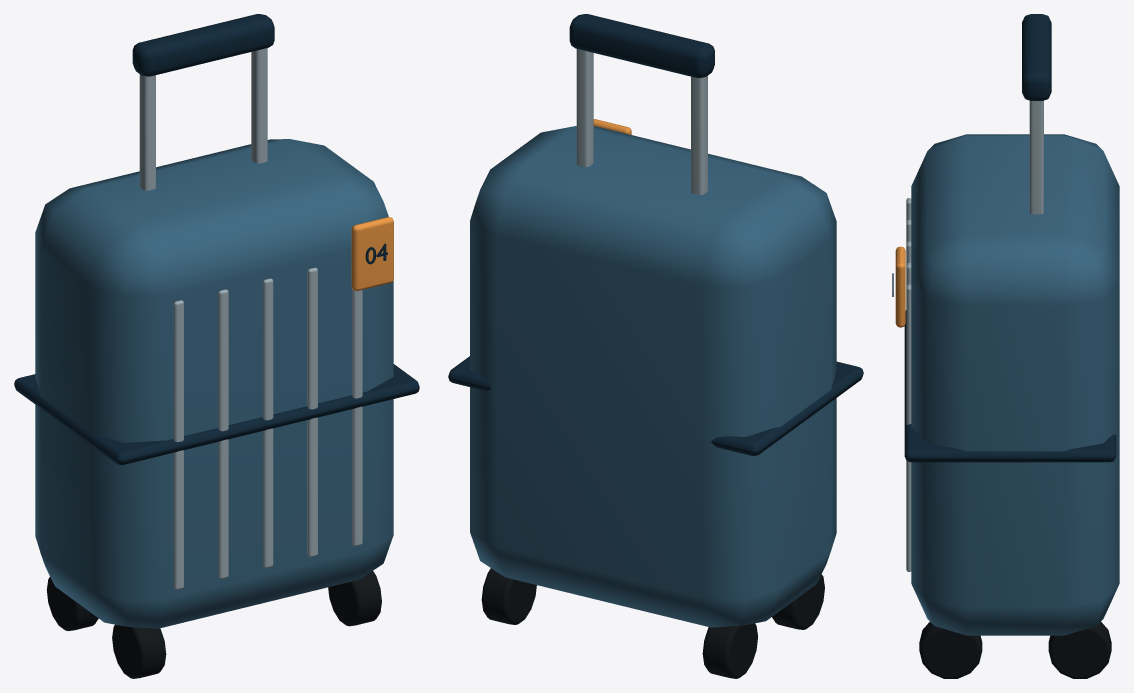
The model's file is suitcase.glb.
3 views of the same model, side by side, from view 1: azimuth 30°, elevation 25°; view 2: azimuth 150°, elevation 25°; view 3: azimuth 270°, elevation 25° (orthographic). The views are drawn at different scales.
Visible parts, largest first — view 1: suitcase; view 2: suitcase; view 3: suitcase.
Part boxes in pixels (box(x1,y1,x2,y2)): suitcase: box(14, 14, 419, 678); suitcase: box(448, 14, 863, 678); suitcase: box(892, 14, 1119, 678).
Size of the model in its own units: 0.408 by 0.7521 by 0.2673.
